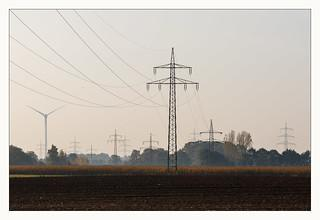power_tower: (143, 44, 202, 180), (201, 119, 226, 162), (106, 127, 126, 172)
